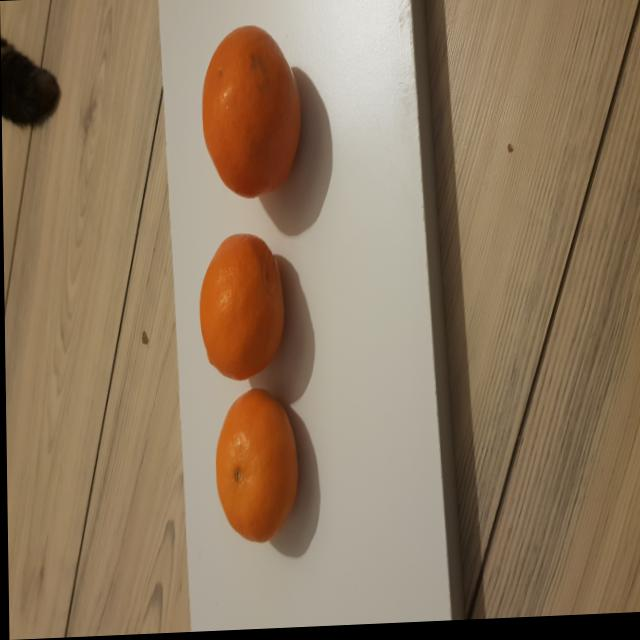Orange: (202, 26, 302, 200), (199, 232, 284, 383), (215, 390, 297, 545)
